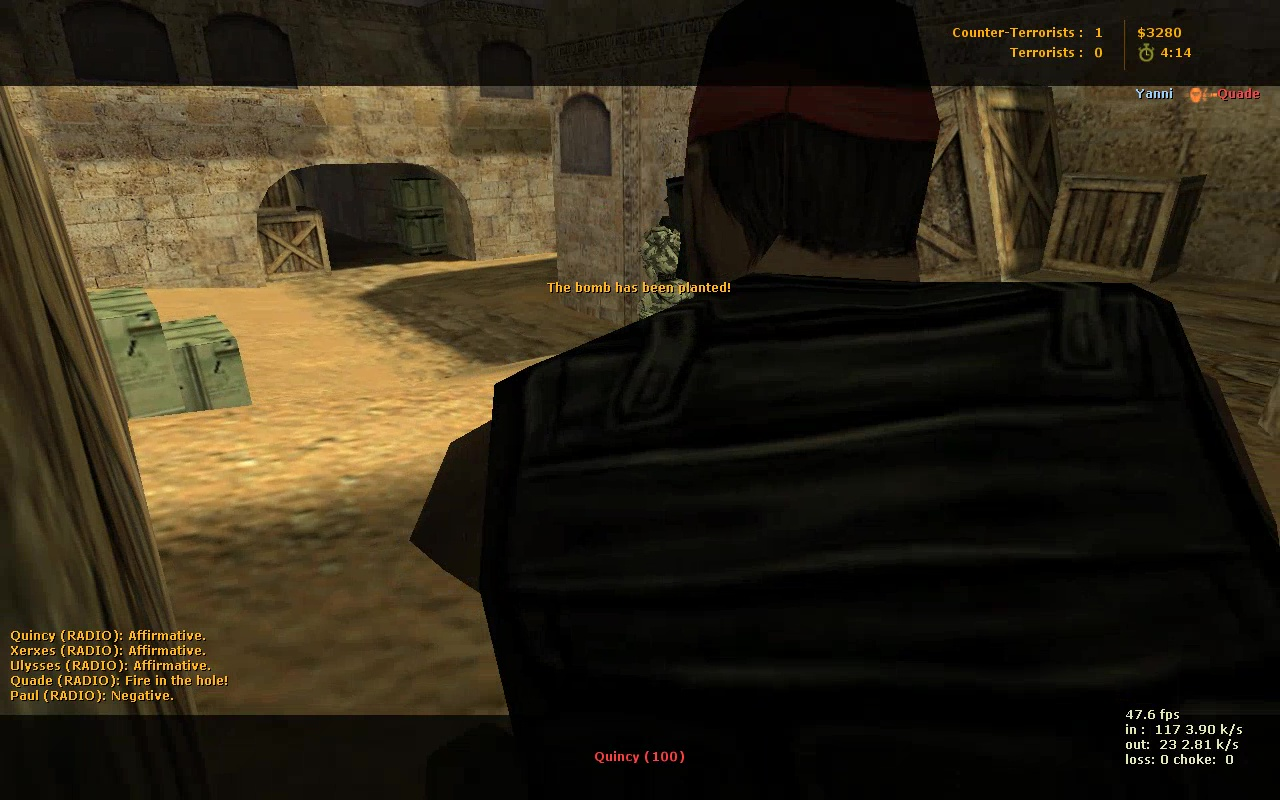terr1: (484, 41, 1272, 740)
terr2: (644, 224, 686, 315)
